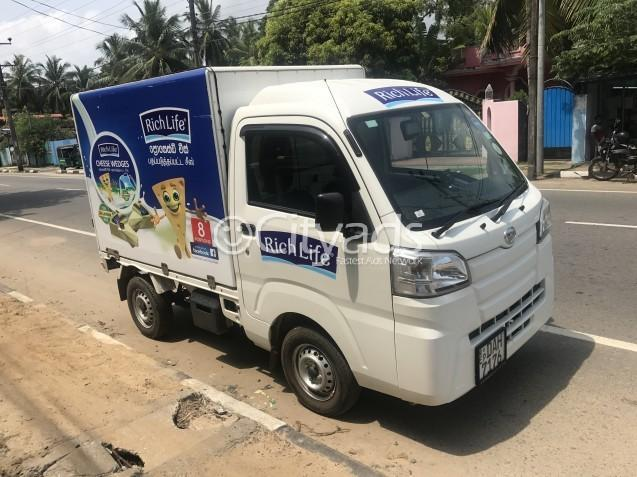motorbike: (587, 120, 637, 181)
truck: (69, 63, 555, 417)
